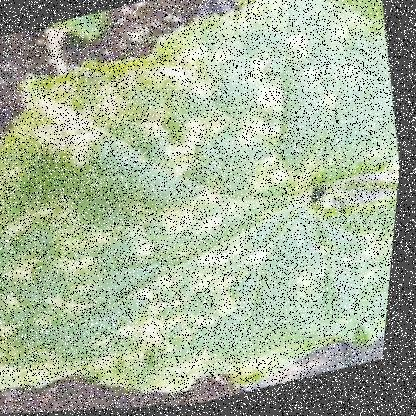DownyMildew: (0, 24, 389, 399)
